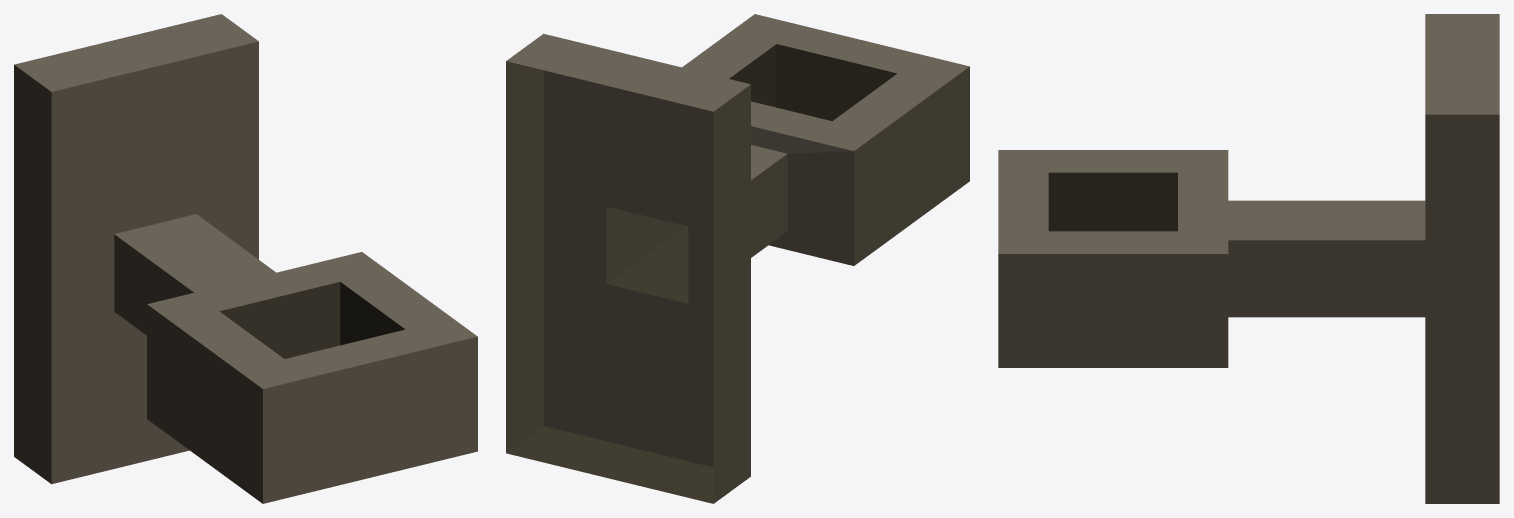
The model's file is SF_Prop_Torch_02.fbx.
3 renders of one model, left to right at view 1: azimuth 30°, elevation 25°; view 2: azimuth 150°, elevation 25°; view 3: azimuth 270°, elevation 25°, orthographic.
Visible parts, largest first — view 1: SF_Prop_Torch_02; view 2: SF_Prop_Torch_02; view 3: SF_Prop_Torch_02.
Boxes of the visible parts, box(x1,y1,x2,y2) form: SF_Prop_Torch_02: box(14, 14, 477, 503); SF_Prop_Torch_02: box(506, 14, 969, 503); SF_Prop_Torch_02: box(998, 14, 1499, 503).
Bounding box in the file's own units: 0.3231 × 0.5635 × 0.6576.
